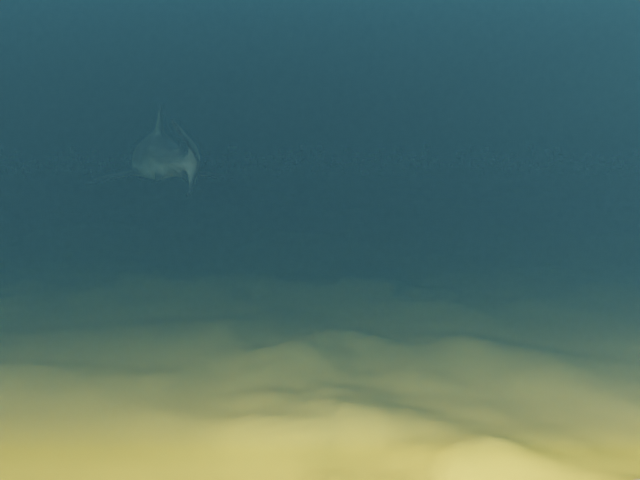Carribean Shark.001: (83, 104, 233, 196)
